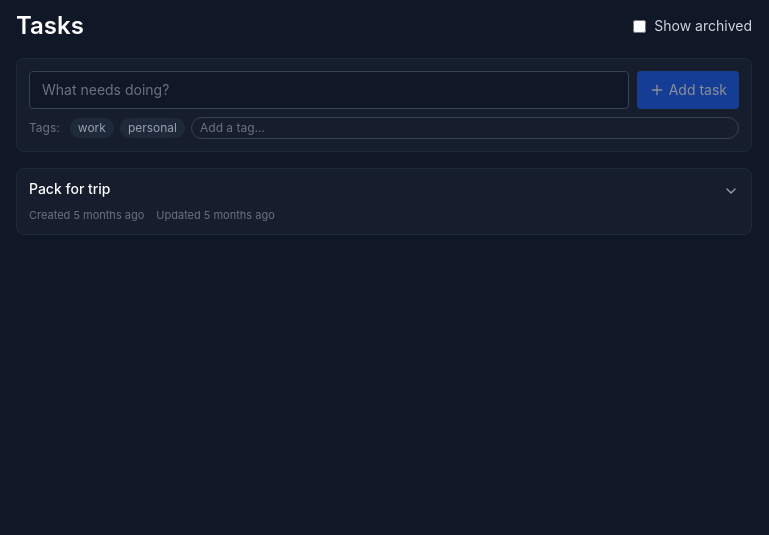
Test: Tasks – add note › adds a note to an expanded task
Expected: the text "Pack for trip" is shown, [29,179,110,199]
Click the button with aria-label "Expand task" at point(70, 188), box [17,169,751,234]
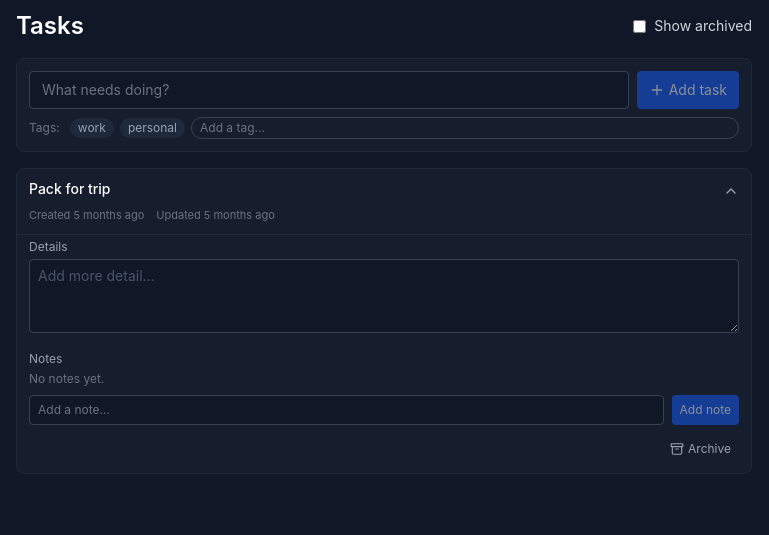
Result: the list item "No notes yet." is shown at [29,370,104,386]
Type "Charger" into the field with placeholder "Add a note…" at point(346, 410), box [29,394,664,424]
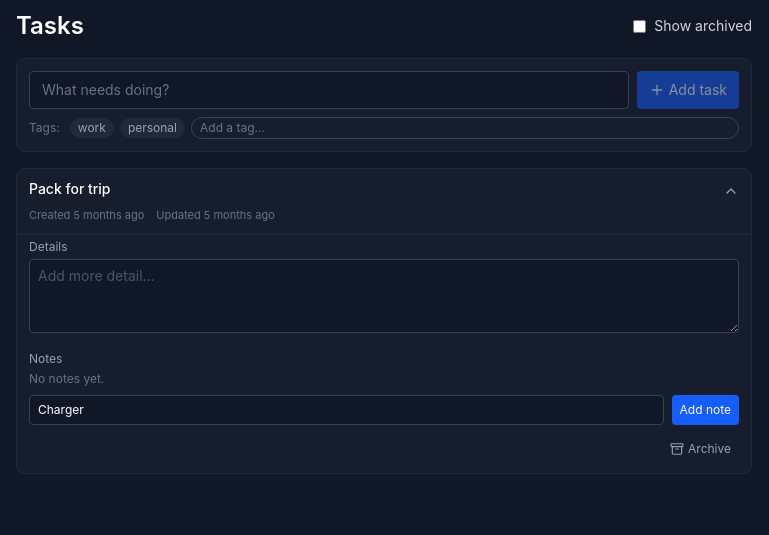
Click the button "Add note" at point(705, 410), box [672,394,739,424]
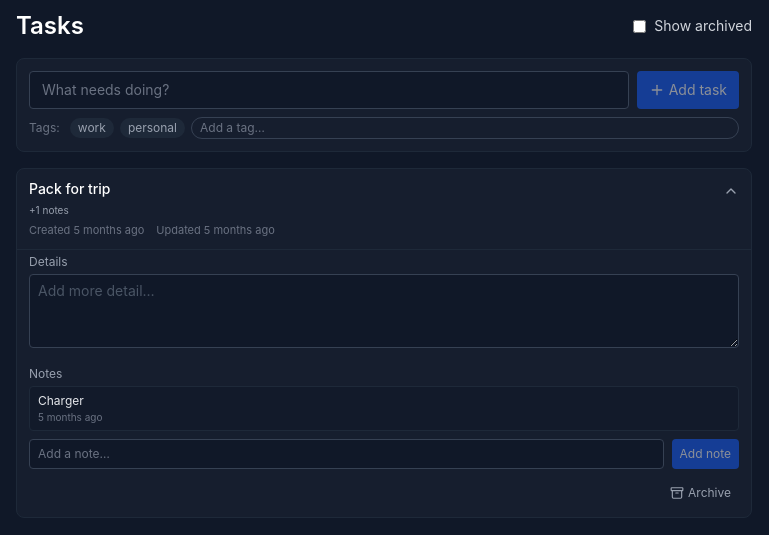
Result: the text "Charger" is shown at [38,392,84,408]
